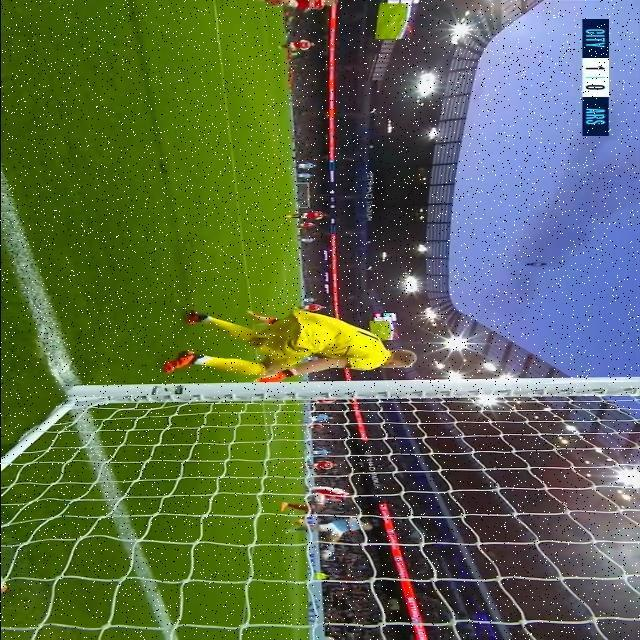goalkeeper: (146, 295, 506, 413)
player: (286, 477, 358, 521), (293, 512, 377, 544), (274, 207, 353, 229), (266, 37, 328, 61), (262, 0, 351, 14)
